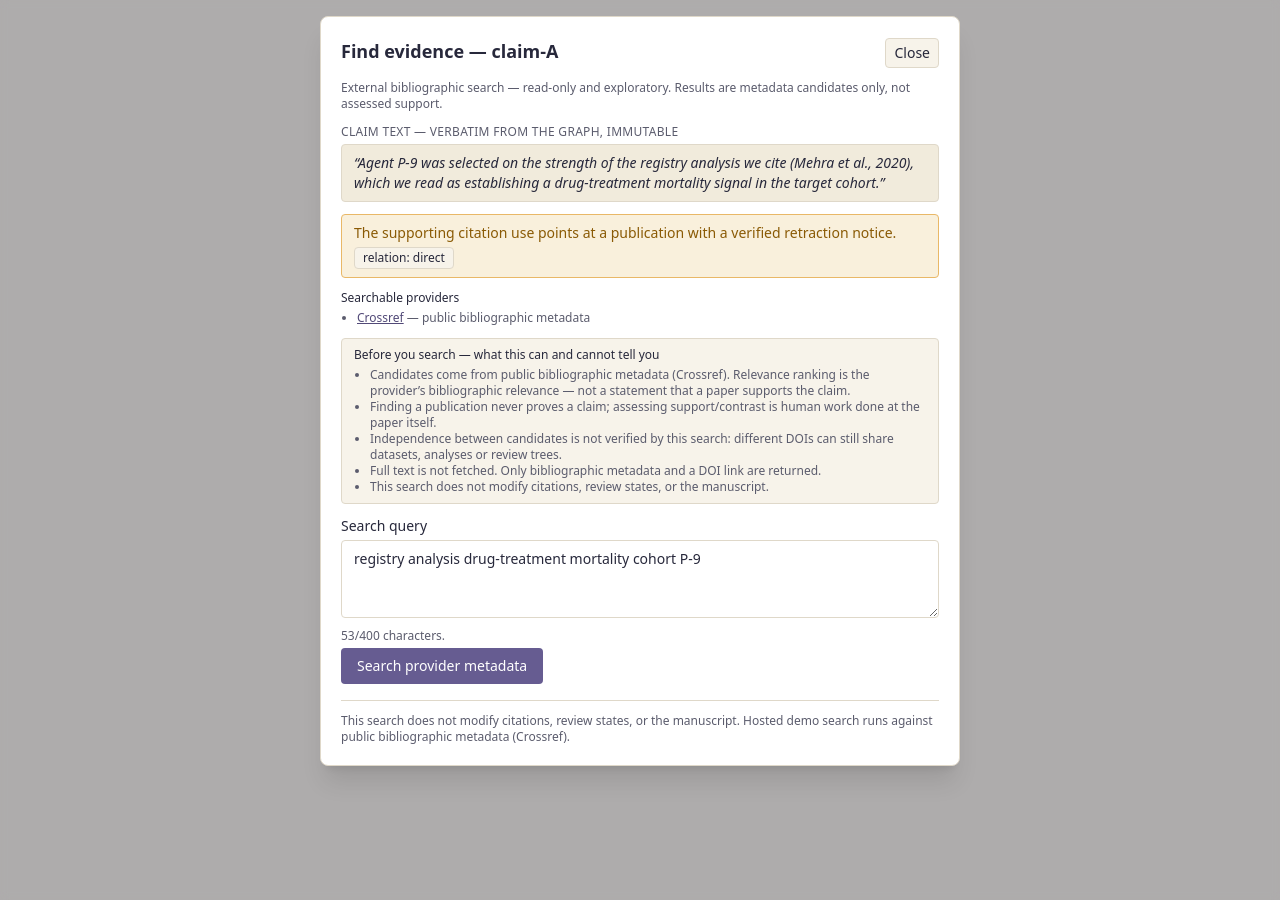
FindEvidencePanel — staged honest flow › empty provider result is honest, not an error: exact spec copy
Click the button with test id "find-evidence-search".
click(442, 666)  # box [341,648,543,684]
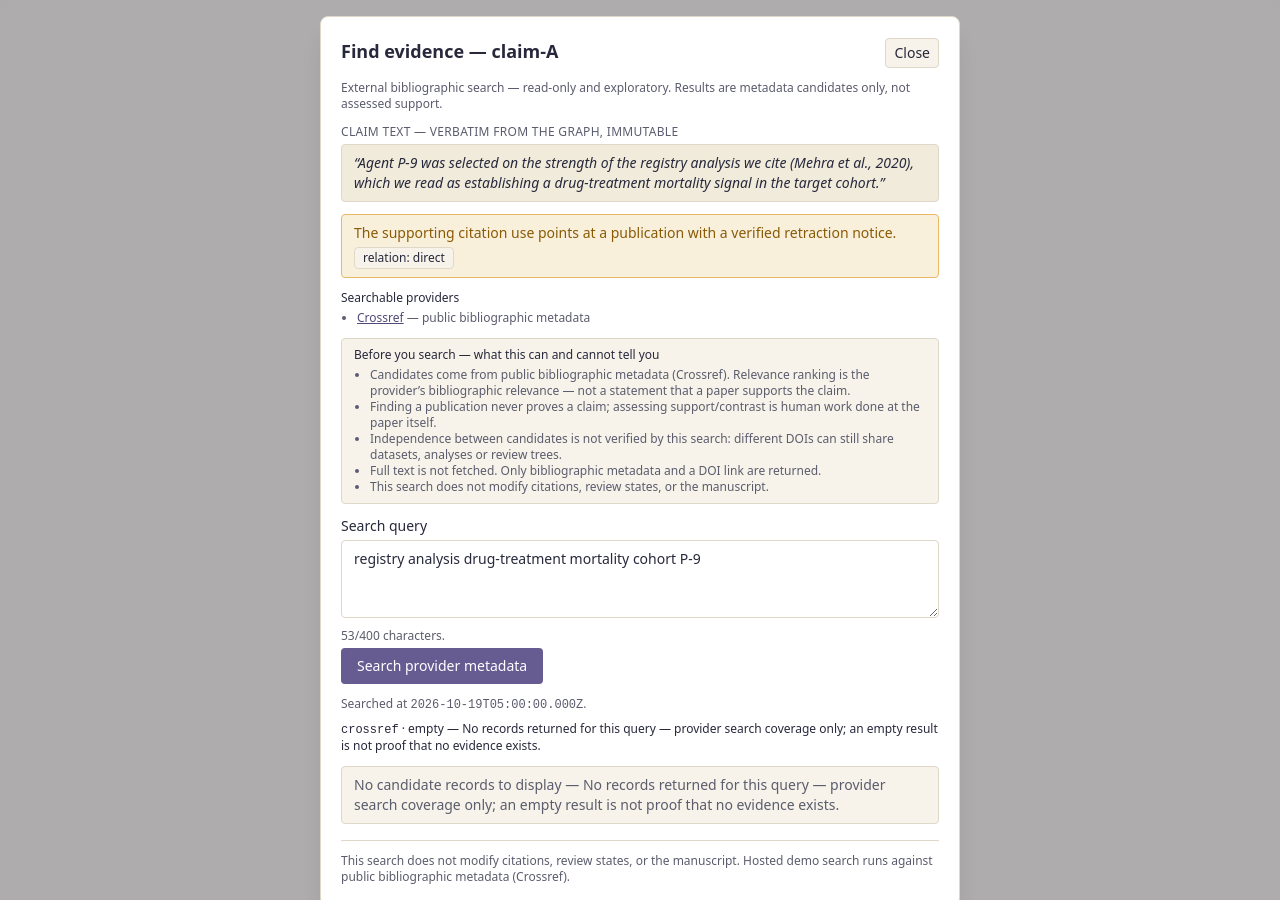
Now the text with test id "find-evidence-empty" shows "No records returned for this query — provider search coverage only; an empty result is not proof that no evidence exists.", box [354,775,885,814]
Now the element with test id "find-evidence-provider-crossref" shows "empty", box [408,720,444,737]
